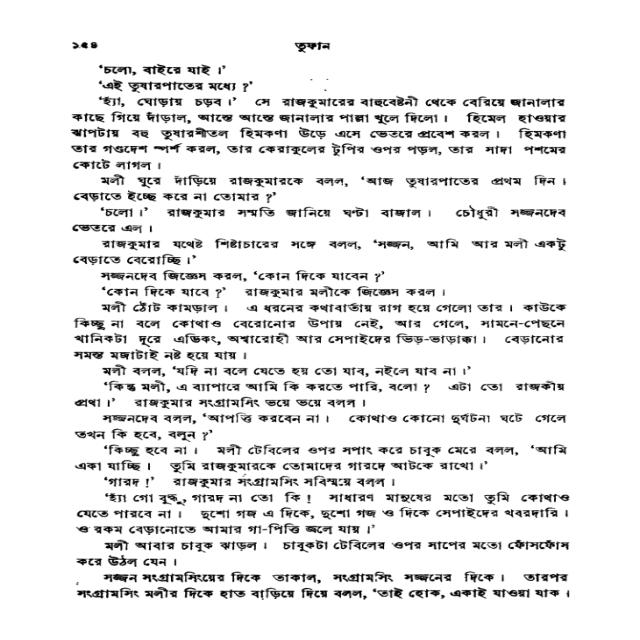page number: (64, 39, 107, 51)
paragraph: (64, 94, 572, 171), (69, 302, 572, 361), (67, 489, 578, 538), (69, 569, 576, 604), (69, 537, 575, 569), (72, 172, 575, 203), (64, 204, 567, 235), (68, 237, 571, 268), (70, 442, 573, 473), (67, 412, 572, 442), (71, 380, 569, 410), (100, 285, 451, 301), (86, 364, 474, 378), (89, 269, 404, 285), (100, 474, 403, 489), (94, 64, 263, 78), (95, 81, 264, 92)
text: (292, 40, 334, 54)
